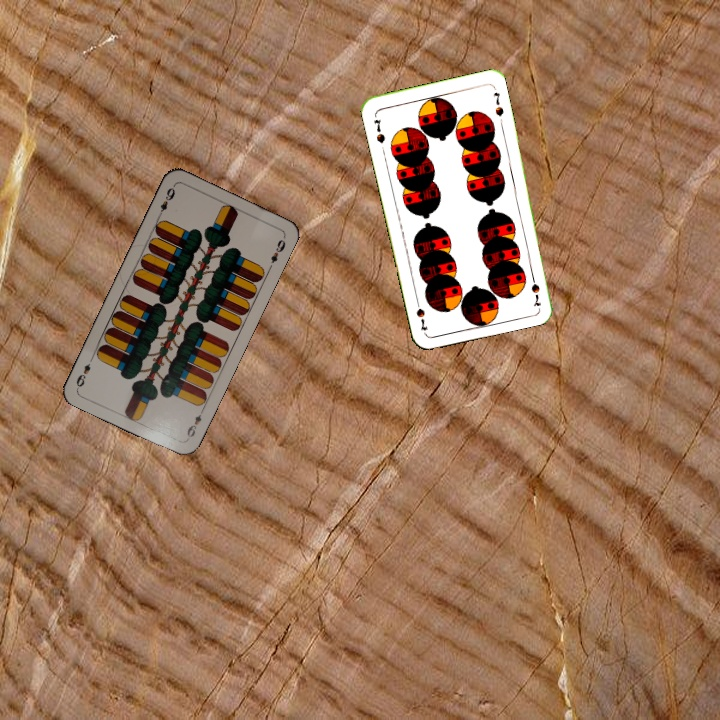E9: (154, 182, 178, 220), (183, 410, 204, 440)
S7: (527, 268, 544, 309), (370, 115, 388, 146)
